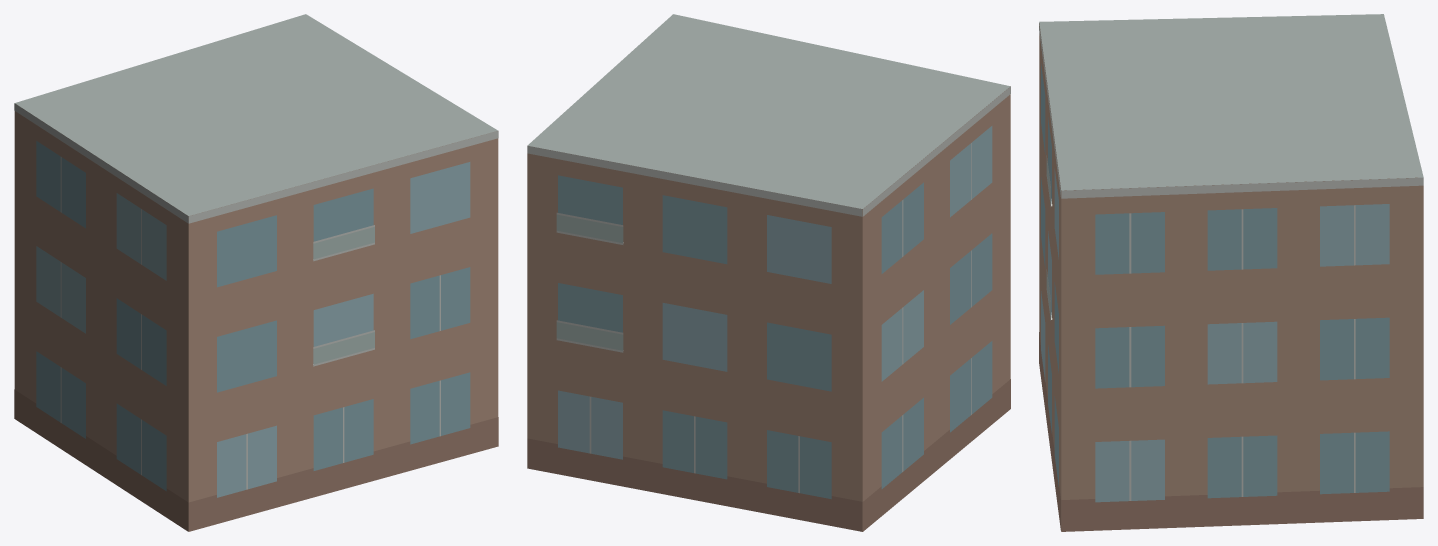
Rendered from survey-upis-32470533.glb.
3 renders of one model, left to right at view 1: azimuth 30°, elevation 25°; view 2: azimuth 150°, elevation 25°; view 3: azimuth 270°, elevation 25°, orthographic. The views are drawn at different scales.
Parts seen in each view (by area): view 1: survey-upis-32470533.tmp; view 2: survey-upis-32470533.tmp; view 3: survey-upis-32470533.tmp.
Part boxes in pixels (bbox=[...]): survey-upis-32470533.tmp: bbox=[14, 14, 498, 531]; survey-upis-32470533.tmp: bbox=[527, 14, 1010, 531]; survey-upis-32470533.tmp: bbox=[1039, 14, 1423, 531].
Size of the model in its own units: 11.33 by 10.2 by 10.42.
